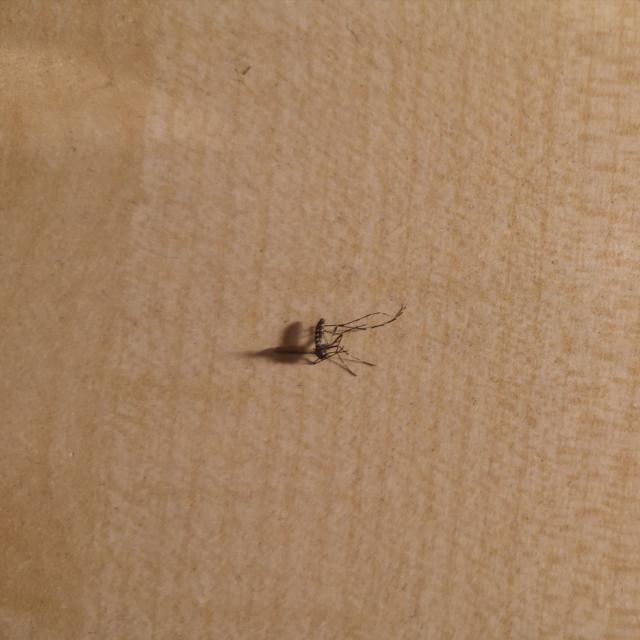albopictus: (250, 297, 410, 381)
